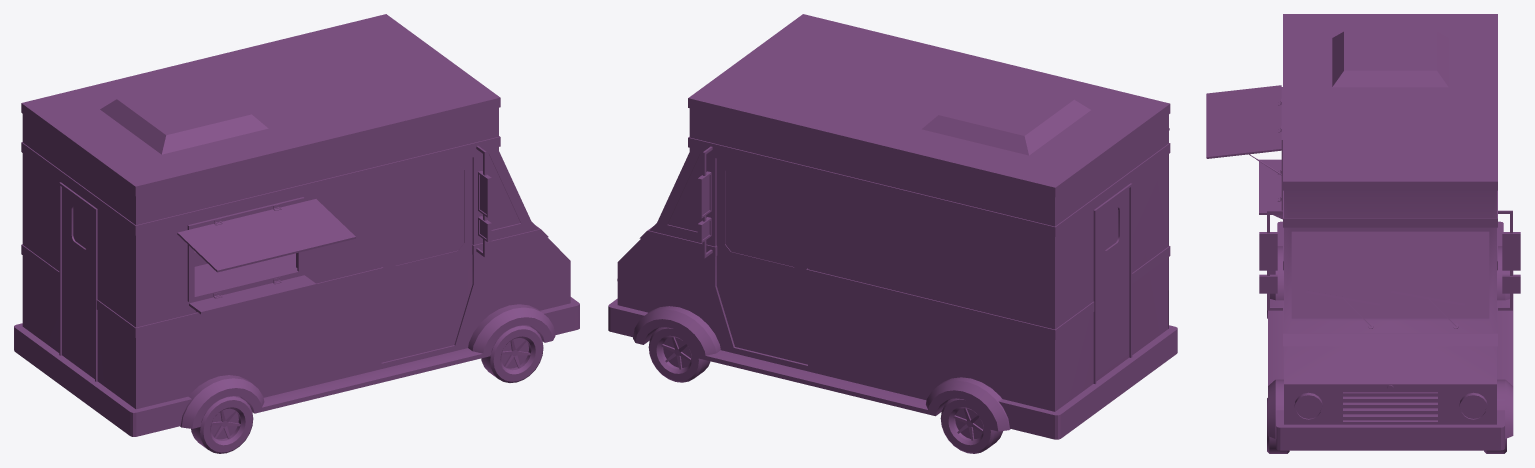
File: springTerm_truck.fbx
3 views of the same model, side by side, from view 1: azimuth 30°, elevation 25°; view 2: azimuth 150°, elevation 25°; view 3: azimuth 270°, elevation 25° (orthographic). The views are drawn at different scales.
Visible parts, largest first — view 1: truck_wall_outer, truck_set08_truck_trim, truck_set08_wheelCover&bumpers, truck_set09_door_left.001, truck_set02_awning, truck_set10_doorL.001, truck_set03_door, truck_set09_wheel.002, truck_set09_wheel.003, truck_set02_counter, truck_set01_counter_top, truck_set10_sideL.001 (+4 smaller); view 2: truck_wall_outer, truck_set08_truck_trim, truck_set08_wheelCover&bumpers, truck_set09_door_left, truck_set10_doorL, truck_set03_door, truck_set09_wheel, truck_set09_wheel.001, truck_set03_doorTrim02, truck_set10_sideL, truck_set09_mirror_side; view 3: truck_wall_outer, truck_set10_windshield, truck_set08_truck_trim, truck_set08_wheelCover&bumpers, truck_set02_awning, truck_set09_grill, truck_set09_mirror_side.001, truck_set09_mirror_side, truck_set02_counter, truck_set09_headlight.001, truck_set09_headlight, truck_set09_wiper (+1 smaller).
Part boxes in pixels (box(x1,y1,x2,y2)): truck_wall_outer: box(22, 14, 570, 409); truck_set08_truck_trim: box(21, 14, 548, 337); truck_set08_wheelCover&bumpers: box(14, 297, 579, 436); truck_set09_door_left.001: box(381, 157, 472, 362); truck_set02_awning: box(177, 199, 355, 272); truck_set10_doorL.001: box(390, 165, 463, 265); truck_set03_door: box(62, 187, 94, 374); truck_set09_wheel.002: box(191, 396, 253, 453); truck_set09_wheel.003: box(481, 325, 543, 382); truck_set02_counter: box(189, 275, 316, 314); truck_set01_counter_top: box(194, 253, 295, 291); truck_set10_sideL.001: box(479, 153, 520, 229); truck_wall_outer: box(617, 14, 1168, 411); truck_set08_truck_trim: box(639, 14, 1170, 339); truck_set08_wheelCover&bumpers: box(608, 298, 1177, 439); truck_set09_door_left: box(716, 158, 807, 364); truck_set10_doorL: box(725, 166, 799, 266); truck_set03_door: box(1096, 188, 1129, 377); truck_set09_wheel: box(648, 327, 710, 382); truck_set09_wheel.001: box(940, 398, 1002, 453); truck_set03_doorTrim02: box(1093, 183, 1132, 383); truck_set10_sideL: box(668, 154, 709, 231); truck_set09_mirror_side: box(697, 146, 712, 258); truck_wall_outer: box(1284, 14, 1496, 424); truck_set10_windshield: box(1291, 231, 1489, 318); truck_set08_truck_trim: box(1283, 14, 1497, 346); truck_set08_wheelCover&bumpers: box(1268, 221, 1513, 450); truck_set02_awning: box(1206, 85, 1281, 158); truck_set09_grill: box(1343, 392, 1437, 420); truck_set09_mirror_side.001: box(1259, 210, 1282, 310); truck_set09_mirror_side: box(1498, 210, 1520, 310); truck_set02_counter: box(1259, 159, 1282, 219); truck_set09_headlight.001: box(1294, 392, 1322, 420); truck_set09_headlight: box(1459, 392, 1487, 420); truck_set09_wiper: box(1391, 290, 1464, 328).
Bounding box in the file's own units: 4.93 × 3.09 × 3.18.
